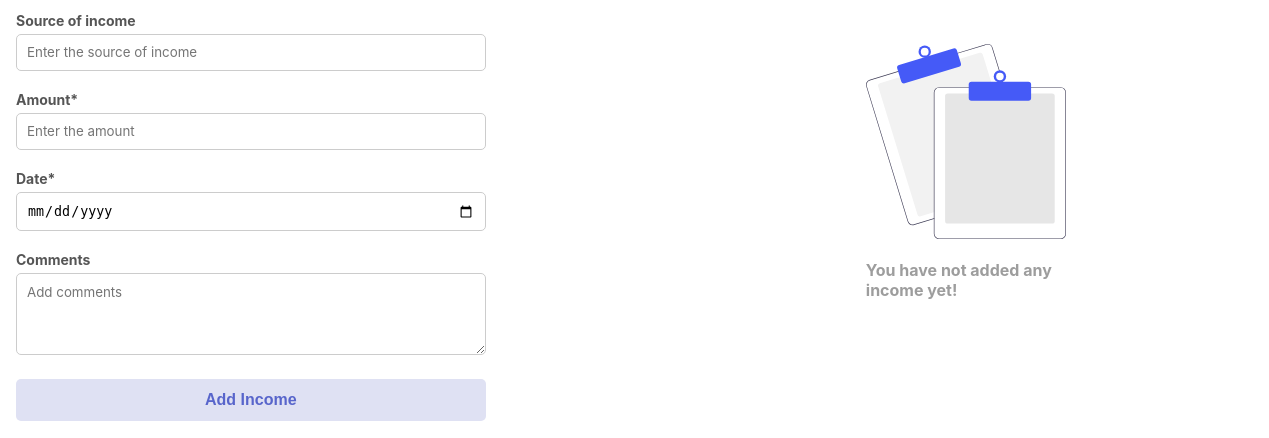
Test case: Add income and display in list › should render a newly added income on the Income list
This screenshot has width=1269, height=438.
In the field with placeholder "Enter the source of income": (251, 52) [16, 34, 486, 71], type "Freelance"
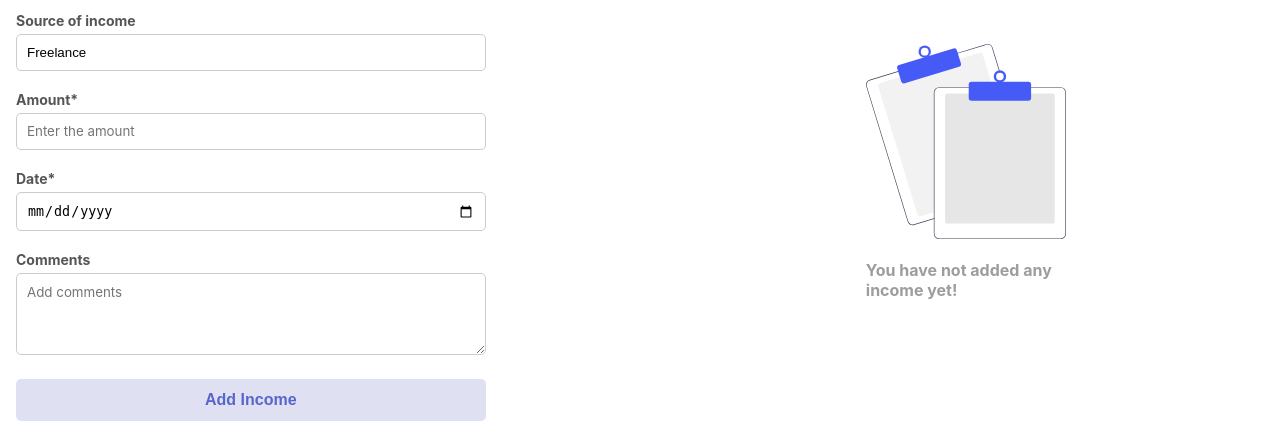
In the number field with placeholder "Enter the amount": (251, 132) [16, 113, 486, 150], type "5000"
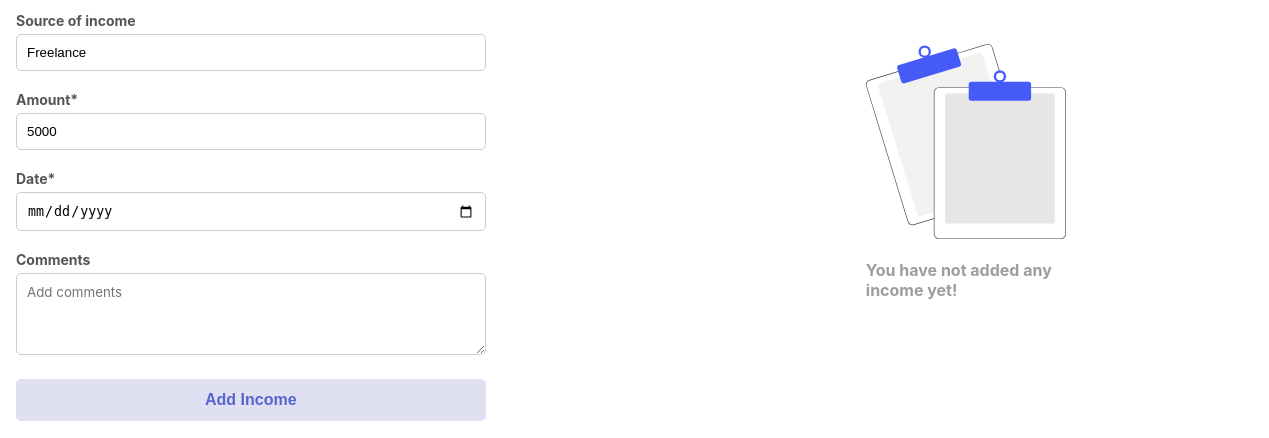
In the date field with placeholder "Enter the date": (251, 212) [16, 192, 486, 231], type "1993-12-14"
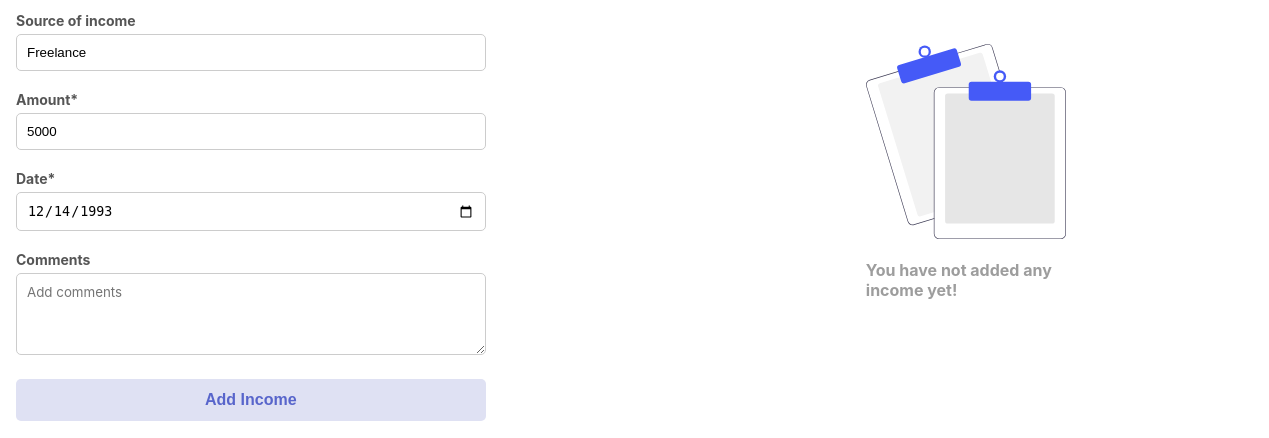
Click the button "Add Income": (251, 400) [16, 379, 486, 421]
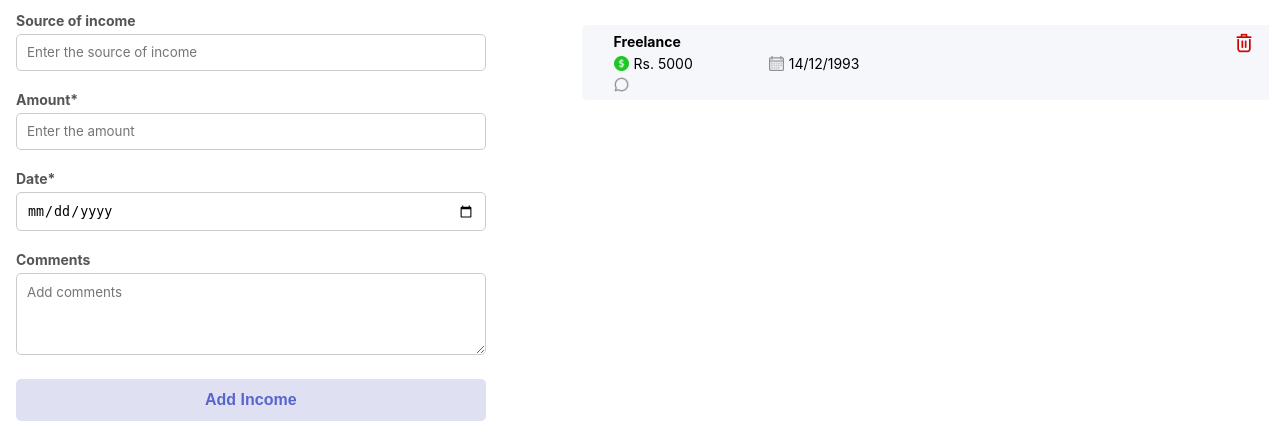
Check: the text "Freelance" is shown, box [614, 33, 681, 50]
